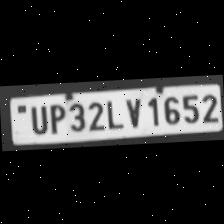1: (142, 92, 160, 125)
2: (198, 89, 220, 123), (85, 97, 105, 131)
3: (65, 97, 85, 130)
5: (178, 90, 200, 122)
6: (158, 92, 180, 124)
L: (102, 96, 122, 128)
P: (44, 100, 66, 132)
U: (26, 102, 48, 134)
V: (122, 94, 144, 128)
